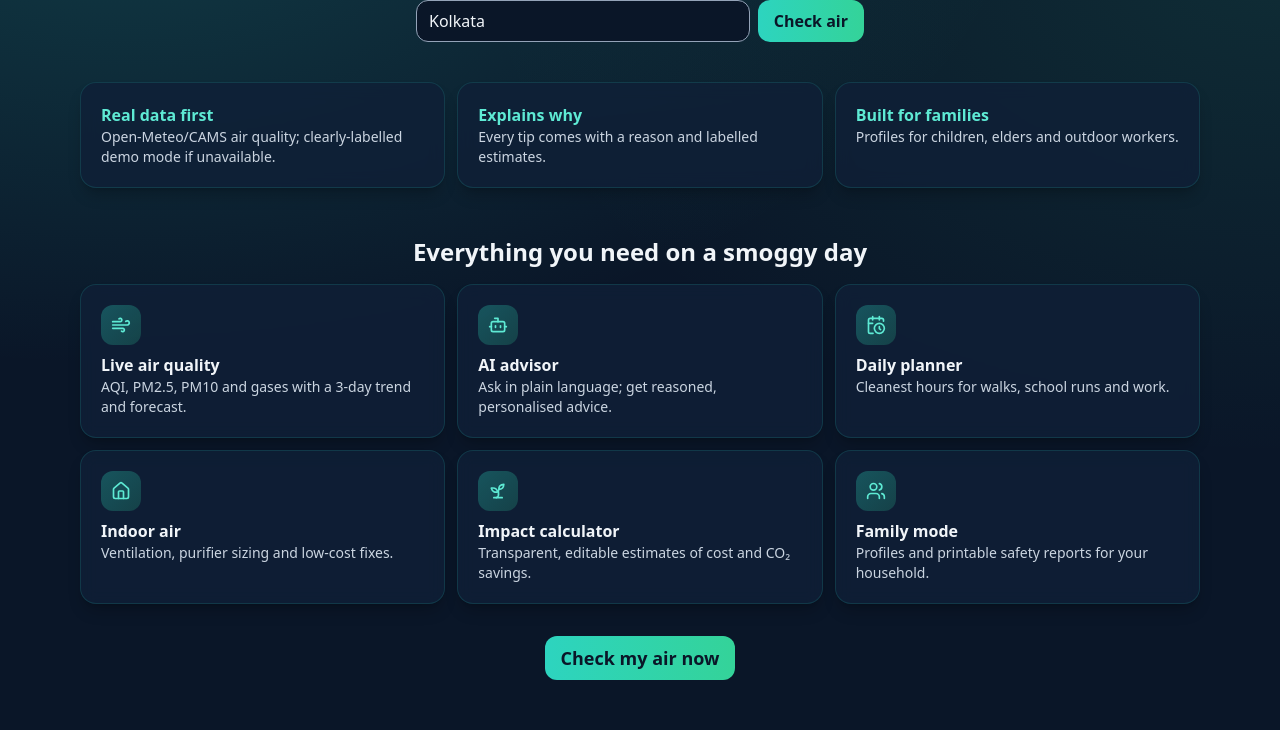
Test: air quality dashboard › loads live data, shows AQI as text with category, and announces it
(page scrolled)
Step 1. Click the button "Check my air now" → [640, 658], box x1=545 y1=636 x2=736 y2=680
(page scrolled)
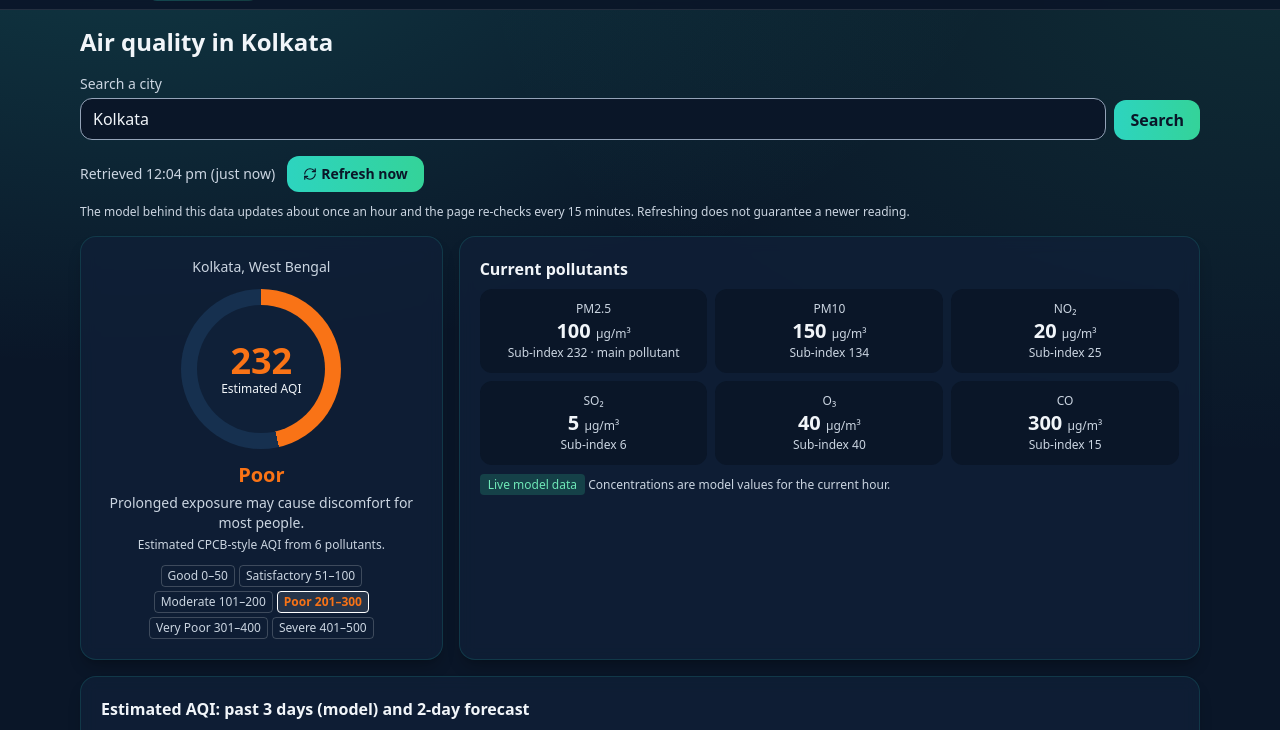
Expected: the heading "Air quality in Kolkata" is shown, x1=80 y1=25 x2=333 y2=58
Expected: the text "232" is shown, x1=230 y1=336 x2=292 y2=385
Expected: the text "Live model data" is shown, x1=480 y1=474 x2=585 y2=495
